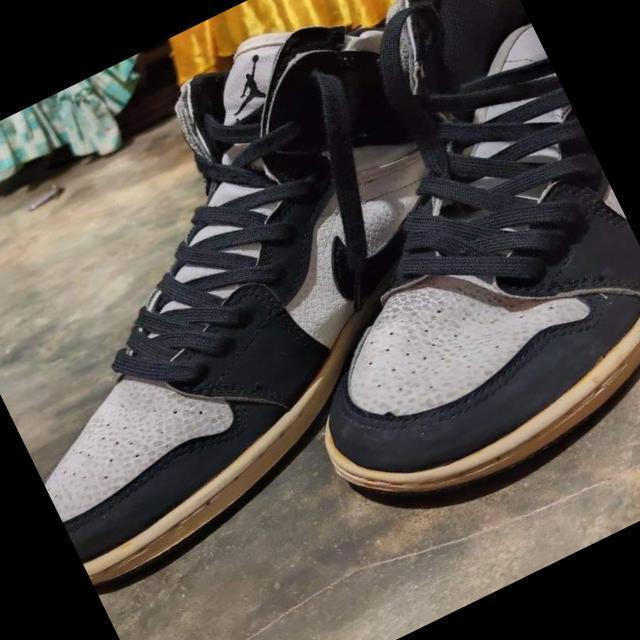nike fake jordan 1: (0, 0, 593, 593), (151, 0, 640, 545)
